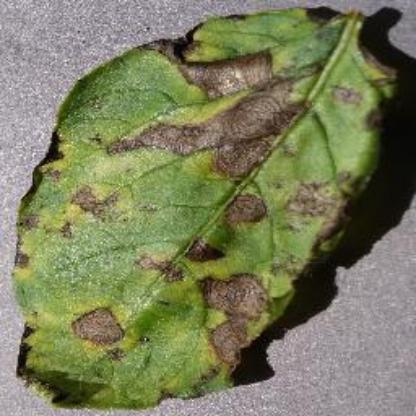Early-Blight: (8, 2, 416, 408)
